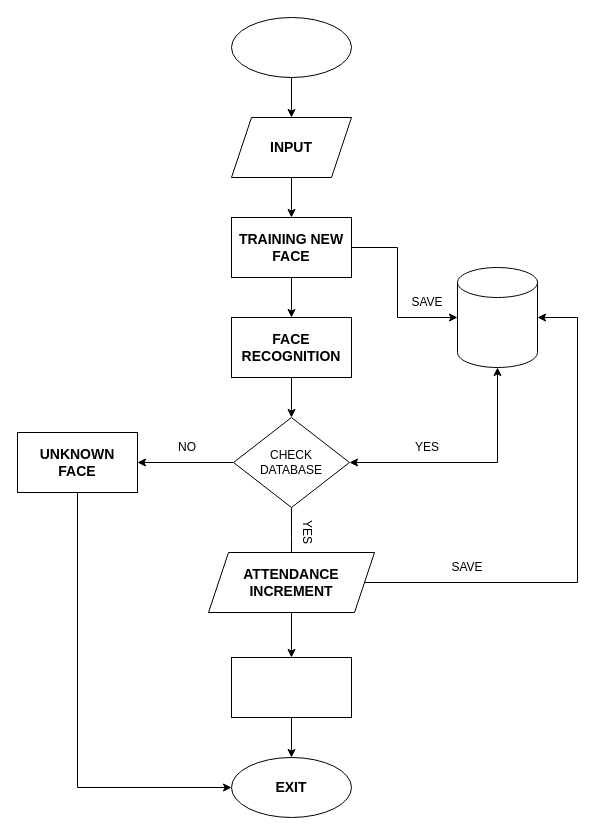
Some shapes in this 603 by 835 pixel diagram are drawn without their labels. The shapes that lost their labels are listed below. From the top down, each one's centre as x and y in pixels, then its label:
At point (291, 47): "Start".
At point (497, 317): "STUDENT DATABASE".
At point (291, 687): "DOWNLOAD ATTENDANCE DATA".
